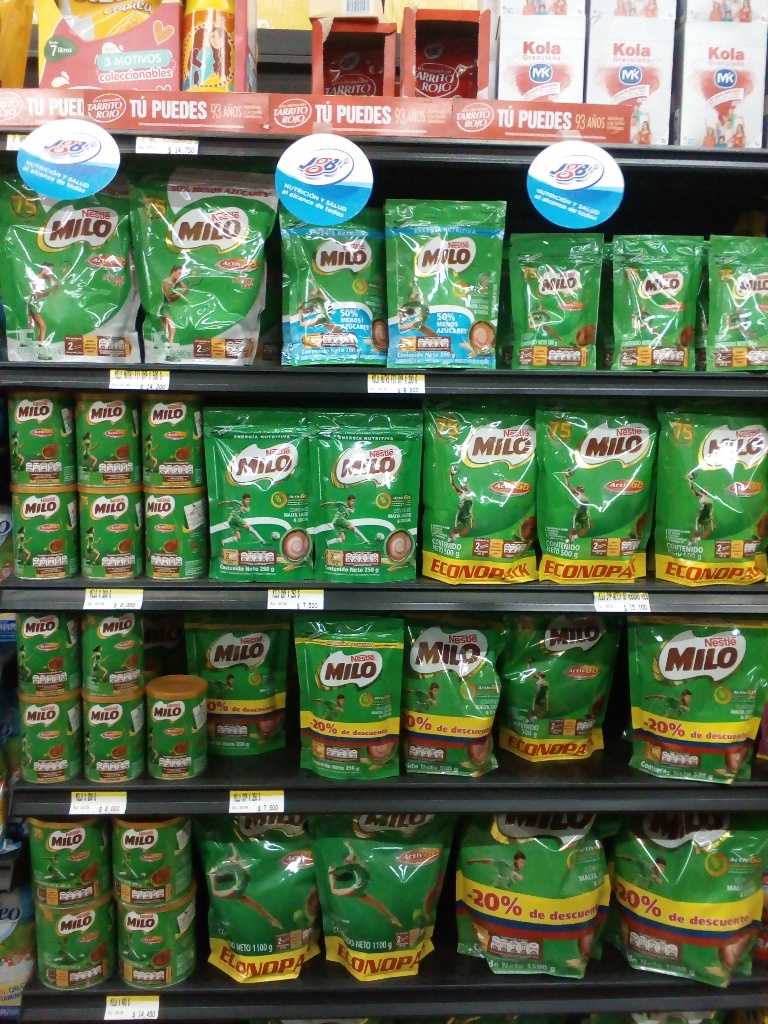COL0170203DYP10000: (506, 230, 608, 375)
COL0170203DYP25000: (315, 404, 426, 598)
COL0170203DYP50000: (298, 614, 408, 784)
COL0170203LAT20000: (151, 679, 207, 784)
COL0170203LAT40000: (23, 801, 109, 911)
COL0170205DYP20000: (277, 188, 391, 365)
COL0170205DYP50000: (121, 162, 276, 365)
